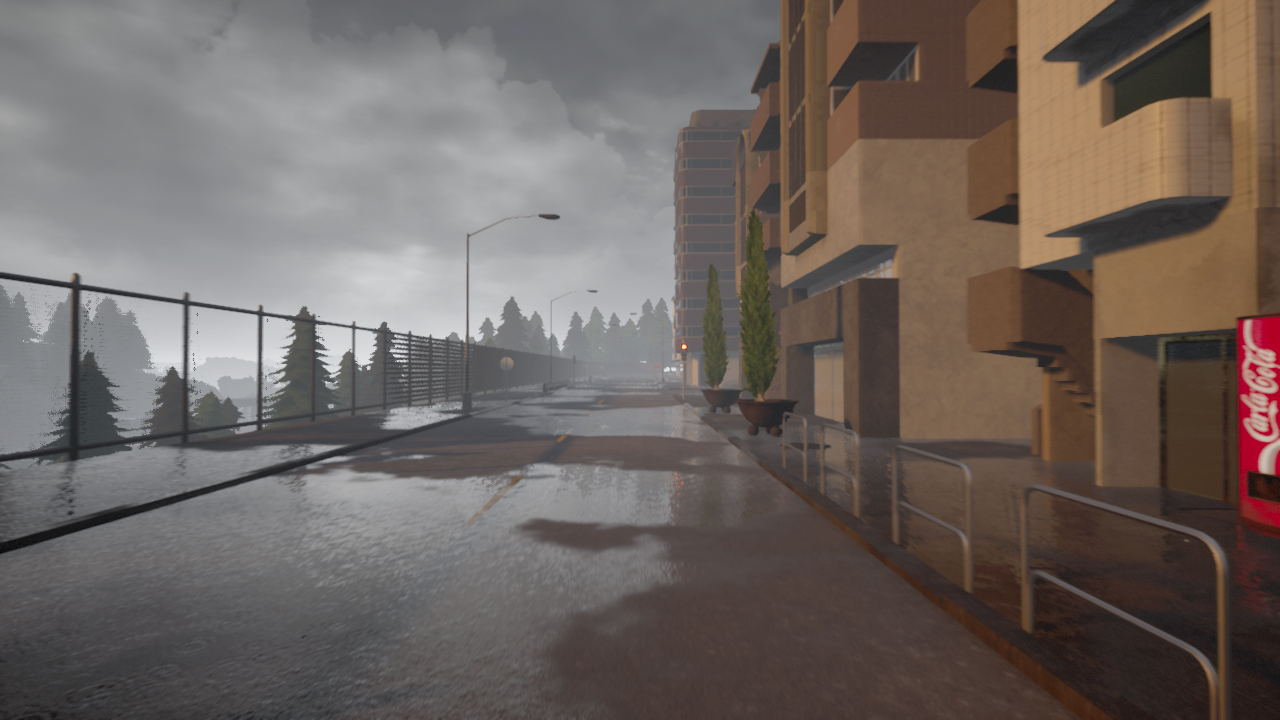red: (680, 343, 688, 361)
